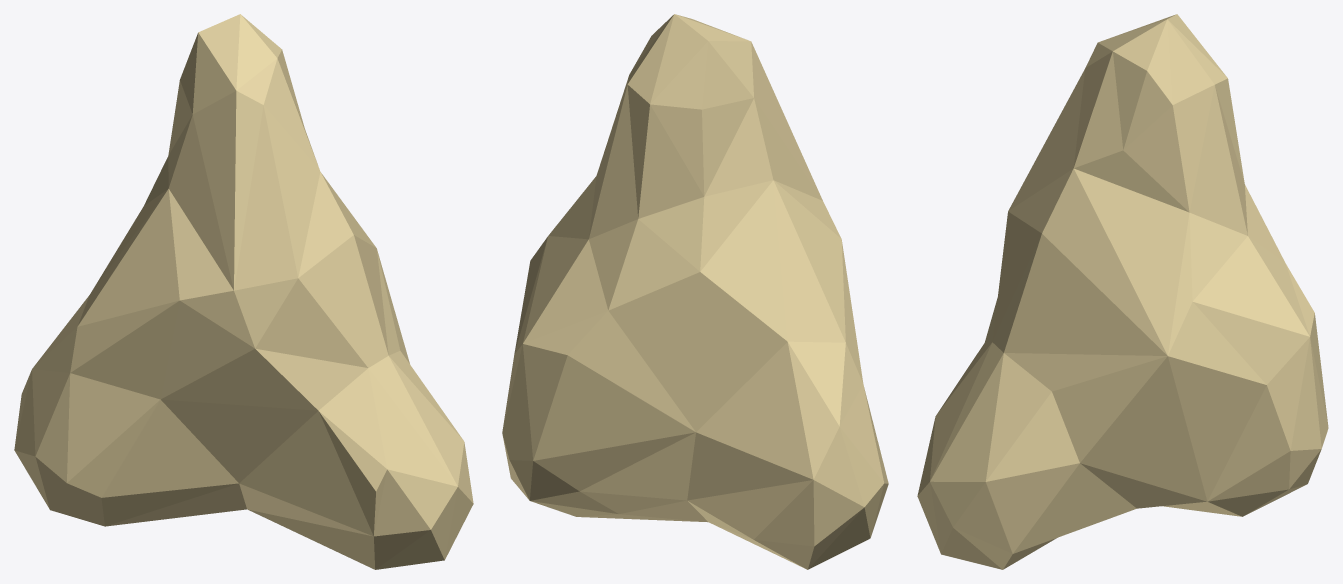
Rendered from Rock (21).fbx.
3 renders of one model, left to right at view 1: azimuth 30°, elevation 25°; view 2: azimuth 150°, elevation 25°; view 3: azimuth 270°, elevation 25°, orthographic. The views are drawn at different scales.
Parts seen in each view (by area): view 1: Asteroid20; view 2: Asteroid20; view 3: Asteroid20.
Part boxes in pixels (<box>): Asteroid20: <box>14,14,473,569</box>; Asteroid20: <box>502,14,888,569</box>; Asteroid20: <box>917,14,1328,569</box>.
Bounding box in the file's own units: 115 × 162 × 120.
